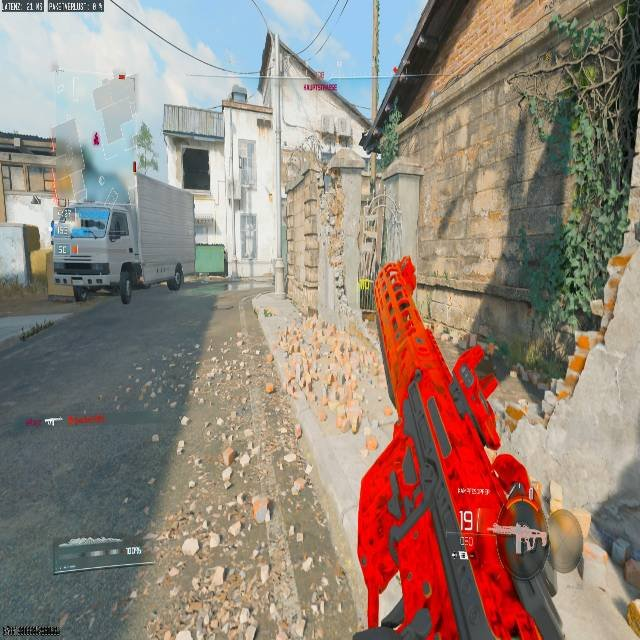player: (117, 257, 143, 306)
